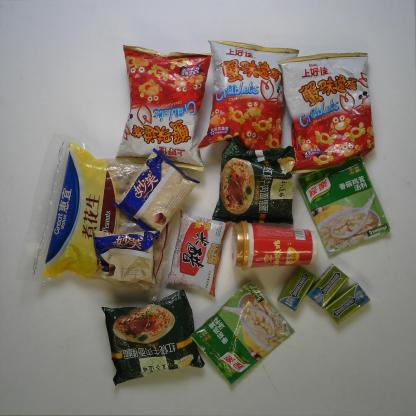Dessert: (113, 148, 202, 233), (92, 226, 160, 289)
Dried Food: (25, 130, 188, 304)
Gum: (273, 258, 320, 312), (304, 260, 351, 310), (323, 279, 371, 327)
Instant Drink: (227, 220, 315, 274)
Instant Noodles: (98, 289, 206, 385), (213, 137, 300, 228)
Puffed Food: (195, 36, 302, 166), (278, 46, 378, 179), (116, 46, 216, 171)
Seasoner: (189, 278, 296, 393), (296, 155, 394, 260), (162, 204, 234, 298)
